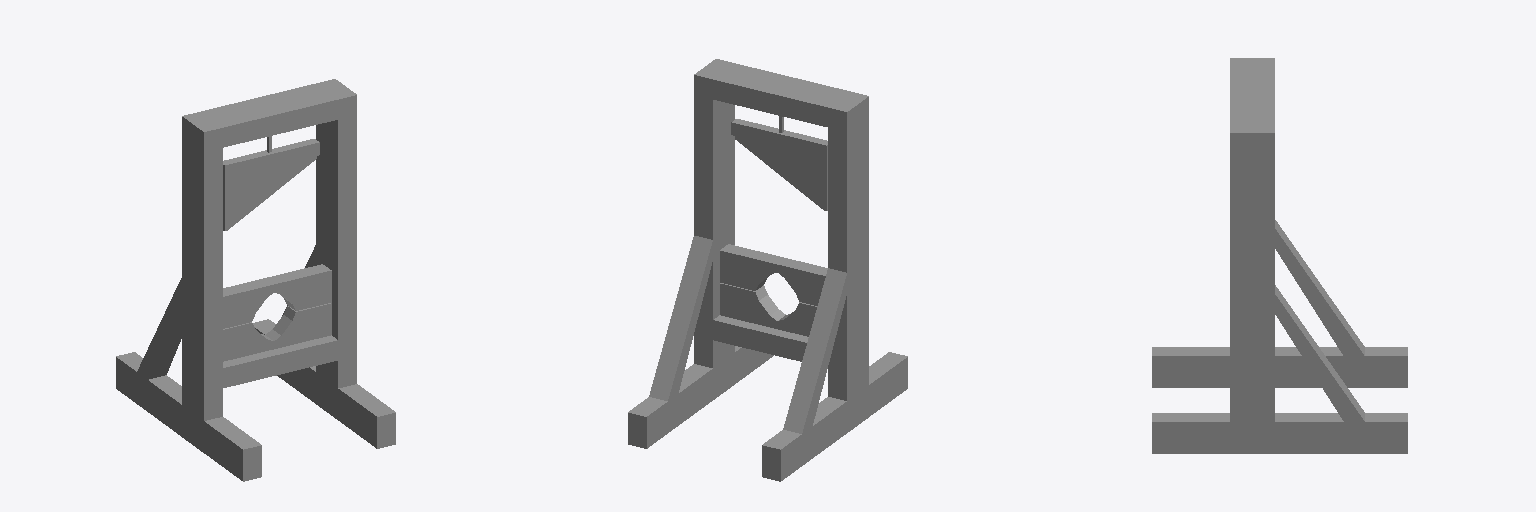
File: guillotine.obj
The picture shows the model from 3 angles: view 1: azimuth 30°, elevation 25°; view 2: azimuth 150°, elevation 25°; view 3: azimuth 270°, elevation 25°; orthographic projection.
Parts seen in each view (by area): view 1: Cube_Cube.009; view 2: Cube_Cube.009; view 3: Cube_Cube.009.
Boxes of the visible parts, x1=… form: Cube_Cube.009: x1=116, y1=79, x2=395, y2=481; Cube_Cube.009: x1=628, y1=59, x2=907, y2=481; Cube_Cube.009: x1=1152, y1=58, x2=1407, y2=453.
Bounding box in the file's own units: 0.2 × 0.4 × 0.288.